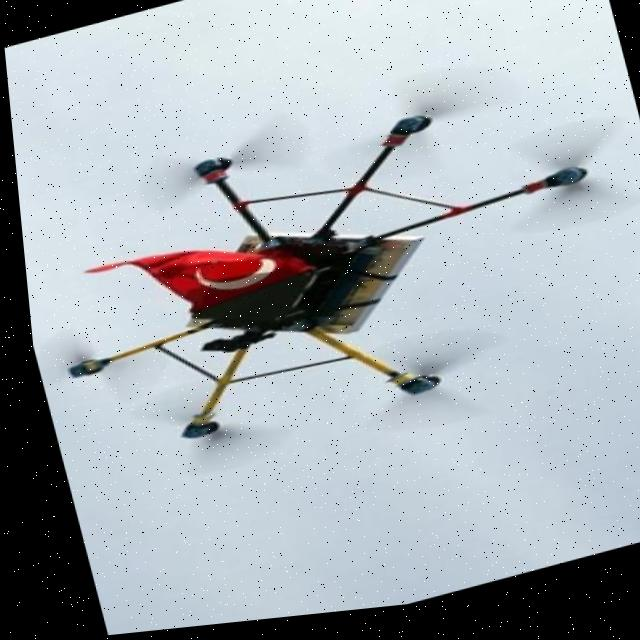drones: (7, 46, 640, 518)
